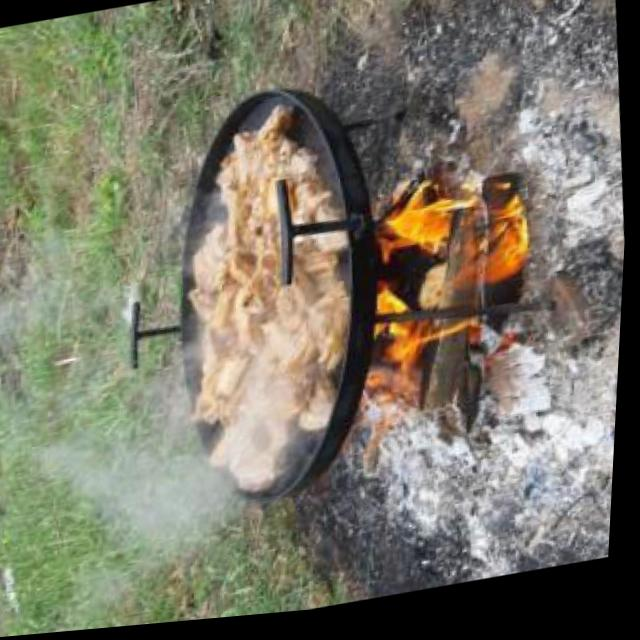Fire: (33, 335, 330, 635), (359, 173, 549, 388)
